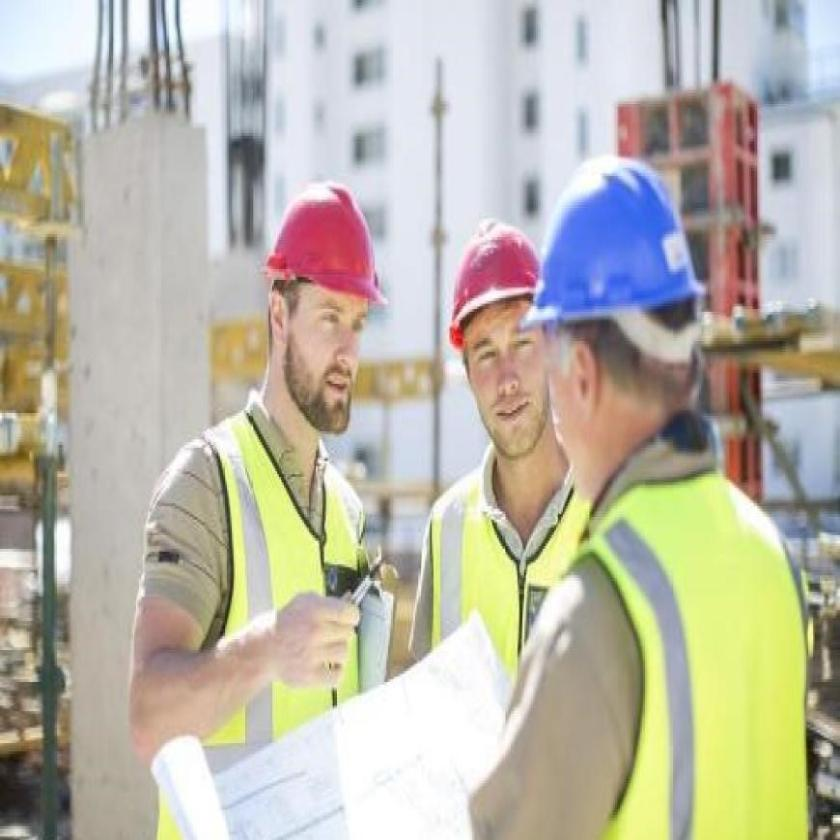Con_casco: (537, 151, 709, 502), (255, 170, 390, 446), (452, 221, 558, 475)
